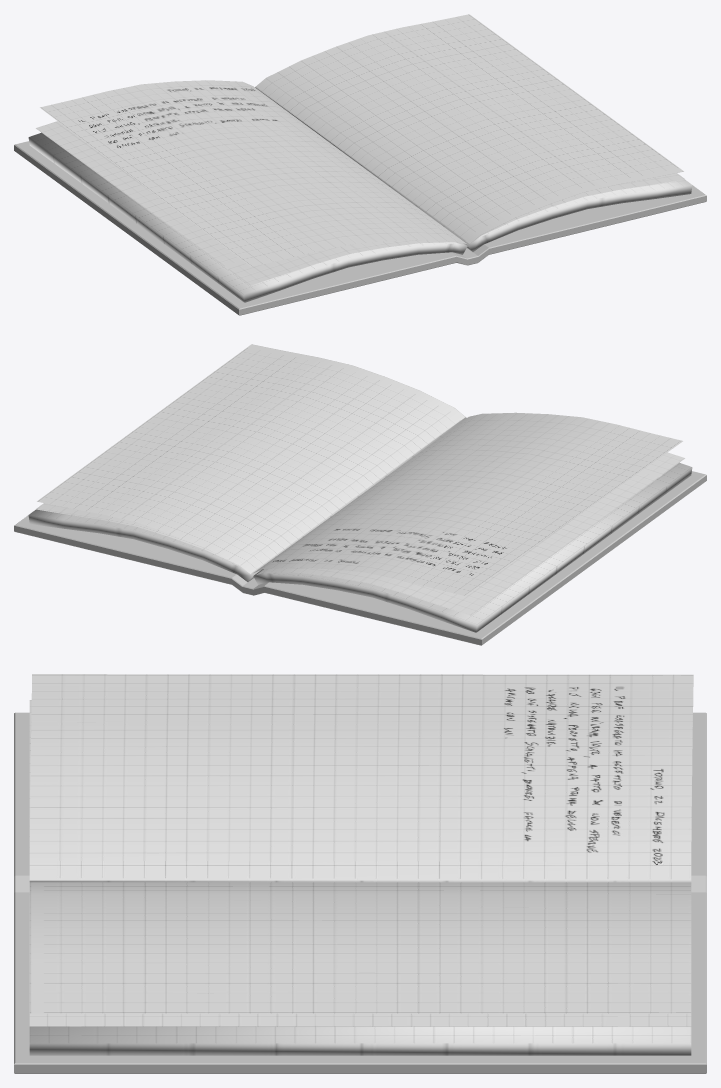
File: Diario.fbx
The picture shows the model from 3 angles, top to bottom: view 1: azimuth 30°, elevation 25°; view 2: azimuth 150°, elevation 25°; view 3: azimuth 270°, elevation 25°; orthographic projection. The views are drawn at different scales.
Parts seen in each view (by area): view 1: copertina; view 2: copertina; view 3: copertina.
Boxes of the visible parts, <box> form: copertina: <box>14,14,706,315</box>; copertina: <box>14,344,706,645</box>; copertina: <box>14,674,706,1073</box>.
Size of the model in its own units: 34.9 by 3.38 by 29.09.
